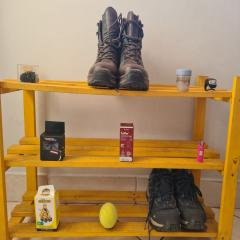bola: (99, 202, 119, 229)
bota1: (88, 7, 150, 93)
bota2: (145, 167, 209, 232)
cx-bike: (40, 121, 66, 161)
cx-ferro: (120, 123, 134, 162)
cx-minions: (34, 184, 61, 232)
cx-xuxa: (17, 64, 40, 84)
isqueiro: (196, 141, 205, 163)
luz: (203, 78, 217, 92)
pote: (175, 70, 193, 92)
